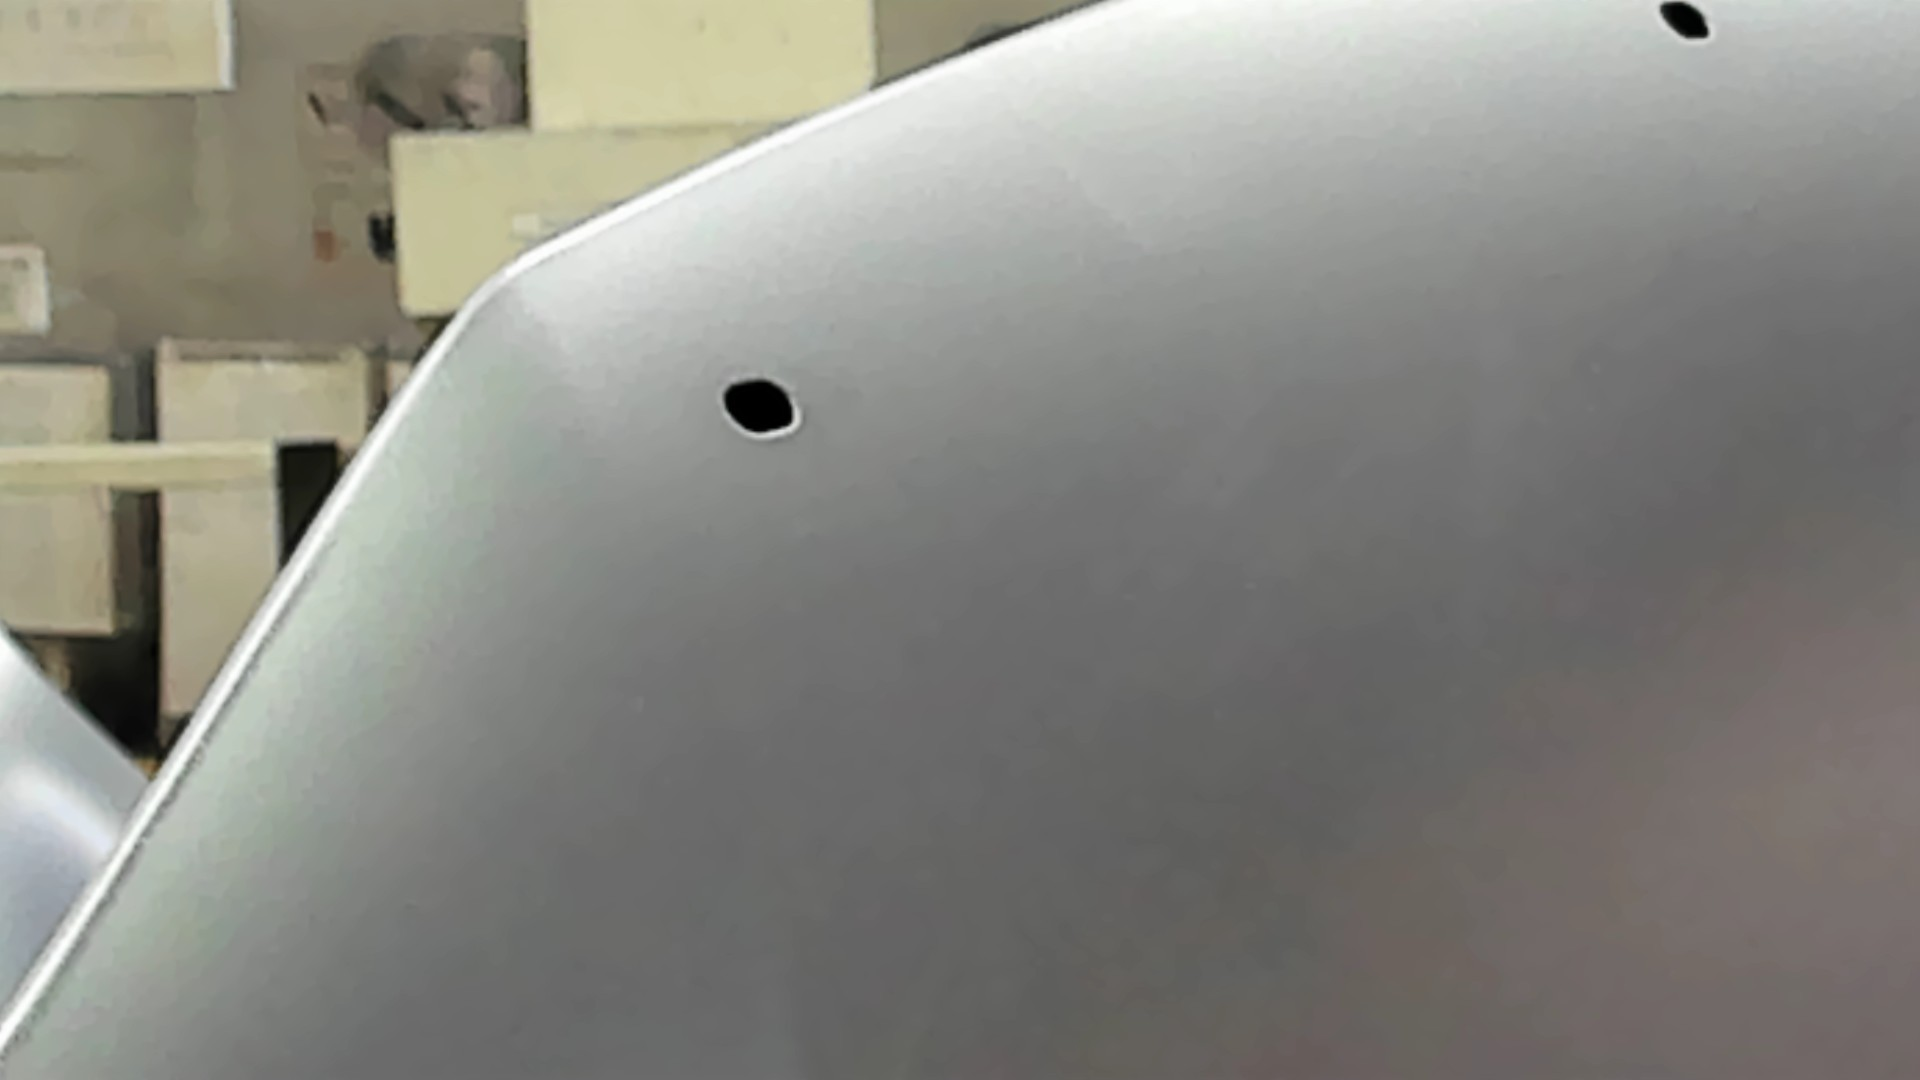amorfo: (708, 371, 811, 447), (1650, 1, 1720, 50)
capo: (847, 116, 1920, 1080)
